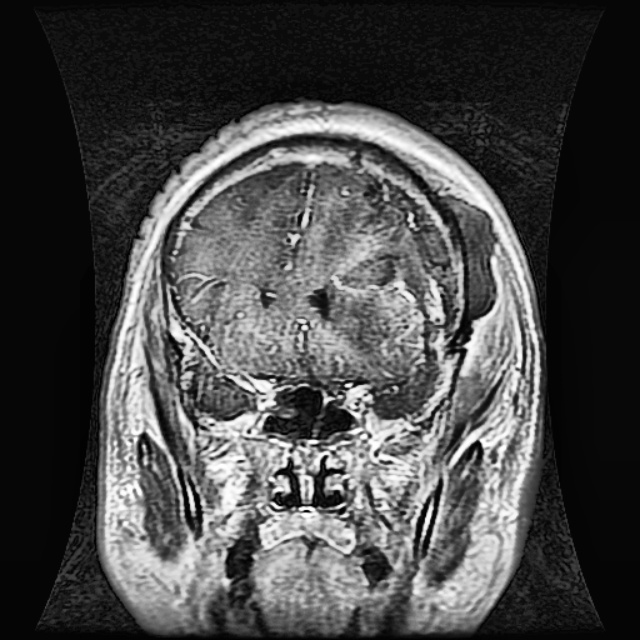Glioma: (367, 177, 463, 350)
